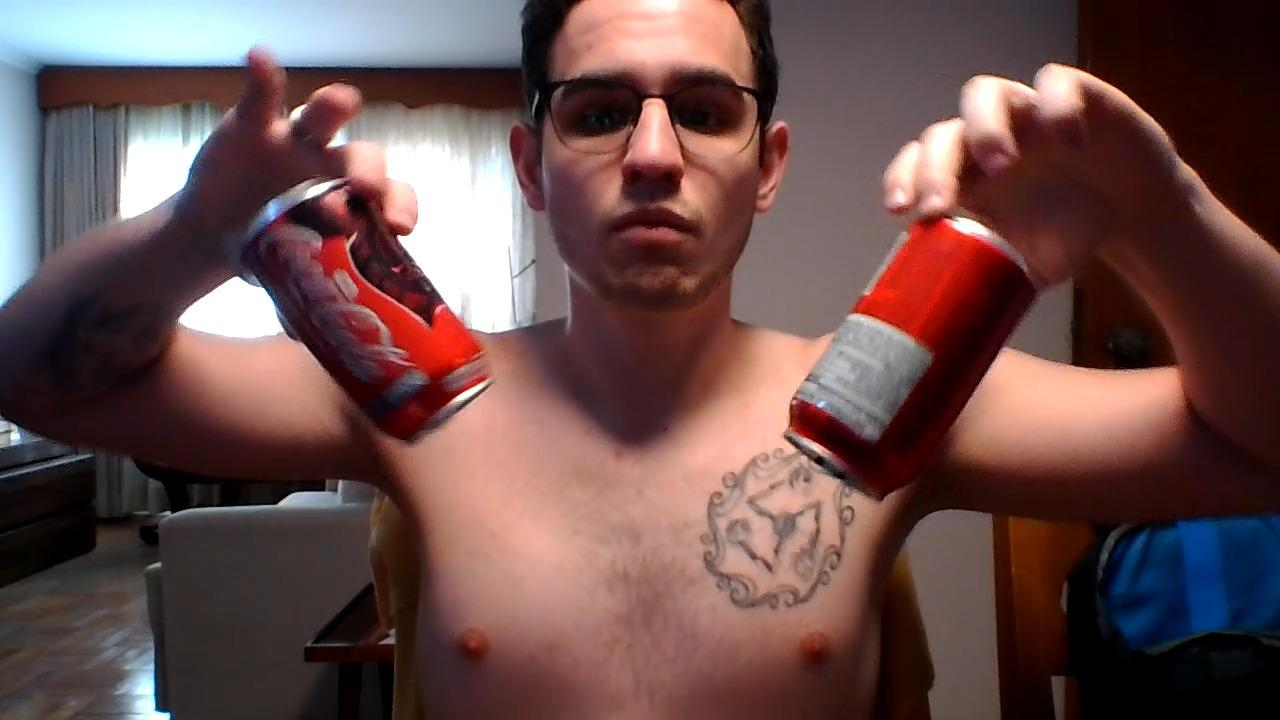coke: (786, 210, 1048, 505), (231, 175, 494, 443)
